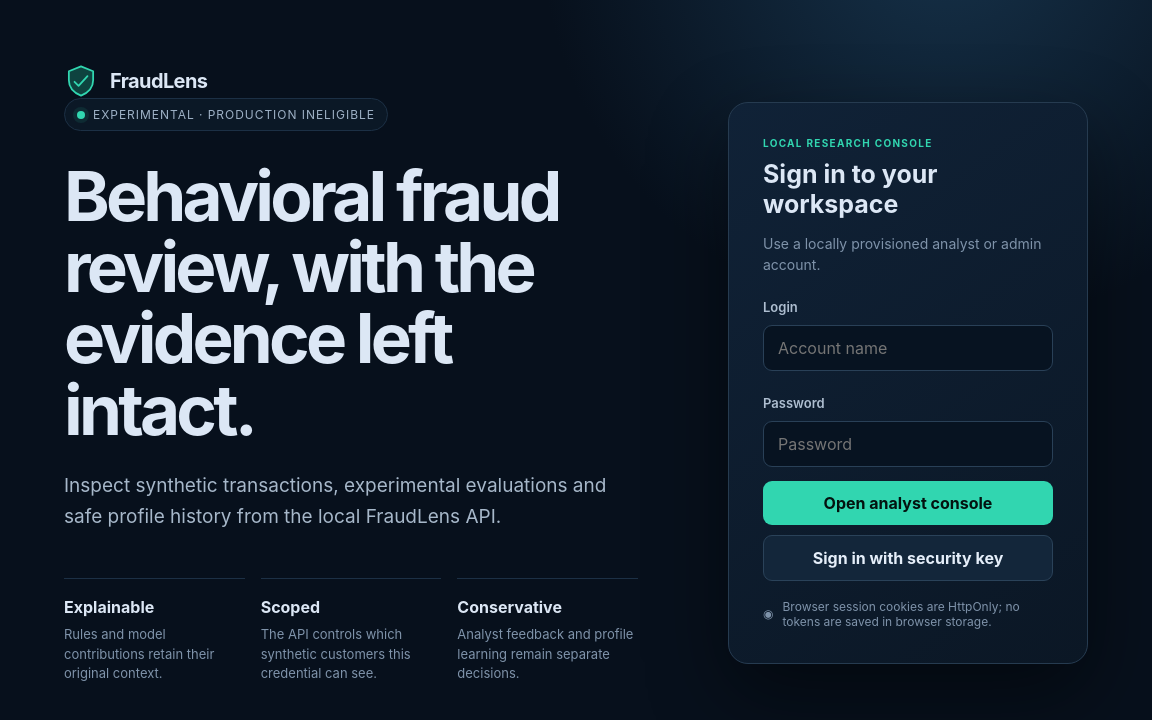
Test: analyst console › shows authentication failures without entering the workspace
Type "analyst-one" into the field labelled "Login".
click(908, 348); type("analyst-one")  # box x1=763 y1=325 x2=1053 y2=371
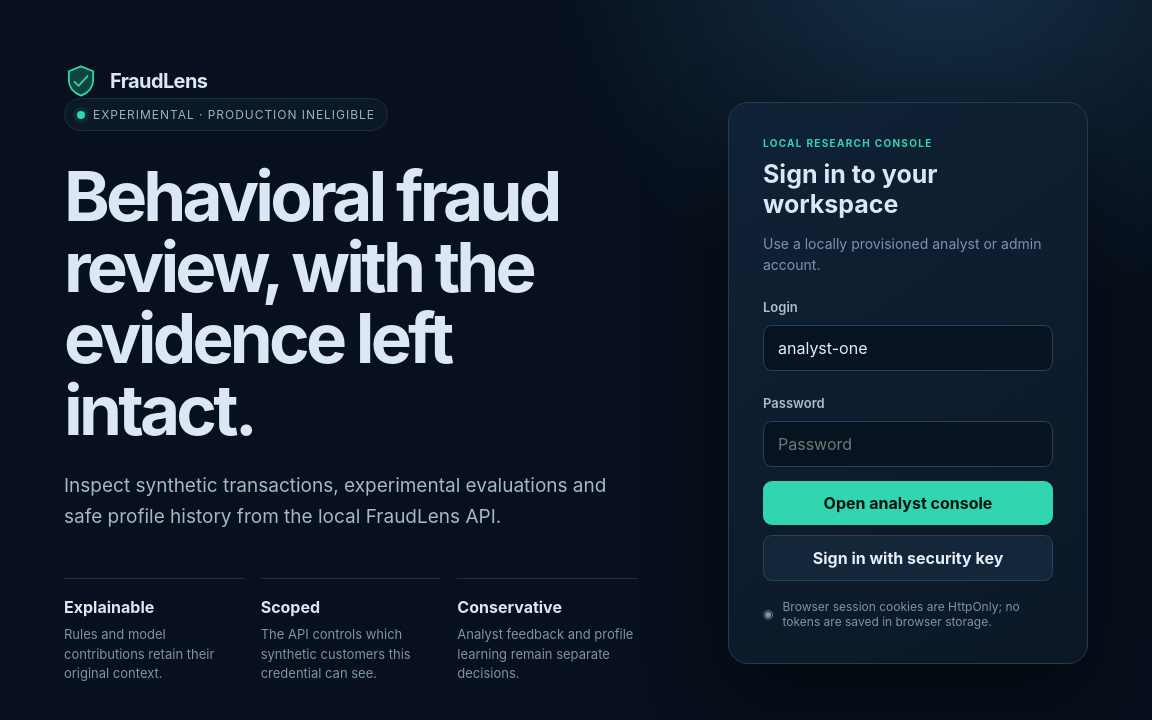
Type "long password" into the password field labelled "Password".
click(908, 444); type("long password")  # box x1=763 y1=421 x2=1053 y2=467
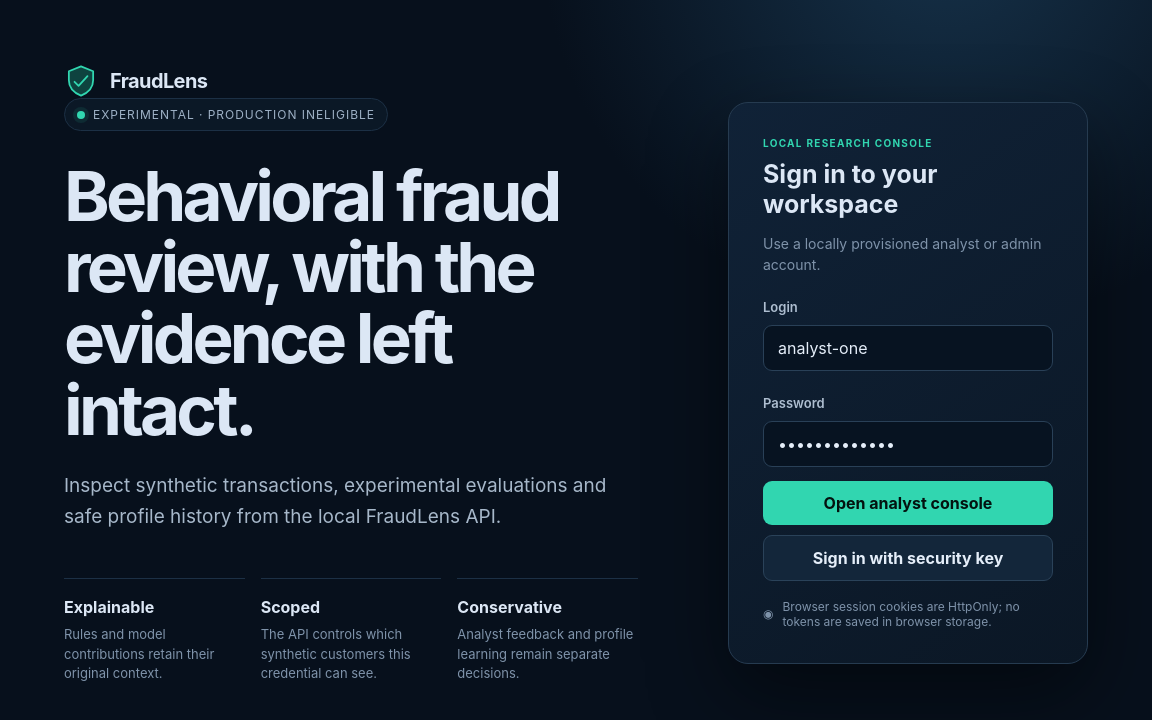
Click the button "Open analyst console".
click(908, 503)  # box x1=763 y1=481 x2=1053 y2=525
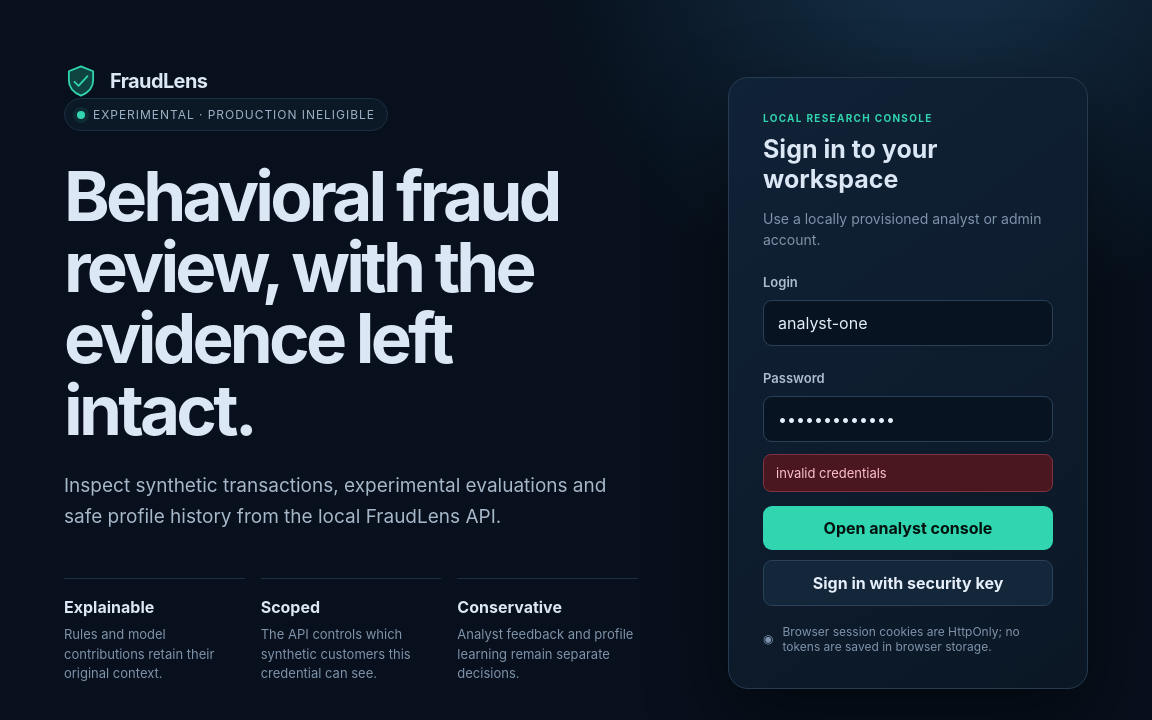
Expected: the message reads "invalid credentials", x1=776 y1=465 x2=887 y2=481
